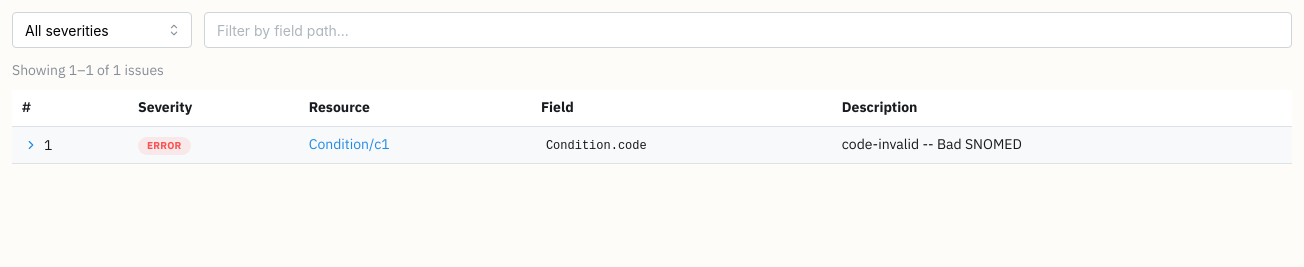
Test: ResourceIssueTable — Phase 43 VAL-07 suggestions (did-you-mean) › Test wire-4 (expansion): clicking chevron opens Collapse, renders Display | Code | Relation columns
Click the button named "show suggestions": [31, 145] box [22, 136, 40, 154]
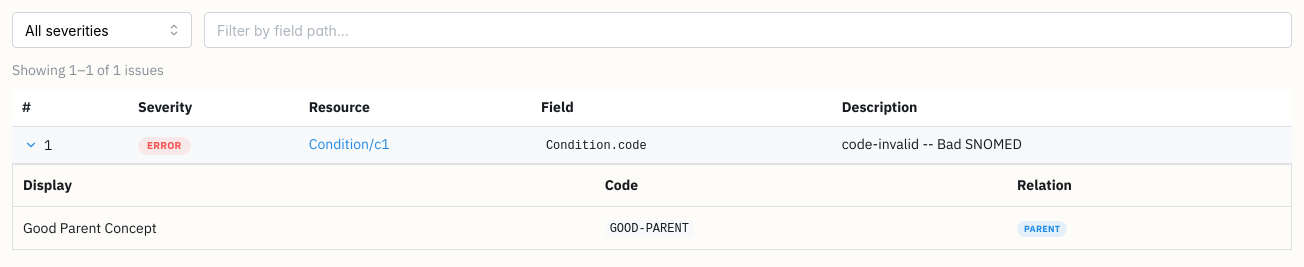
Result: the button named "hide suggestions" is shown at [22, 136, 40, 154]
Result: the column heading "Display" is shown at [12, 164, 595, 207]
Result: the column heading "Code" is shown at [595, 164, 1007, 207]
